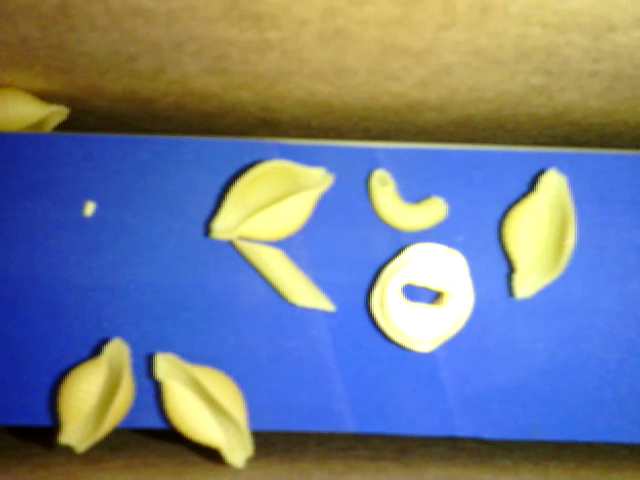elbow: (369, 169, 450, 234)
shell: (152, 349, 252, 471), (205, 157, 334, 241), (498, 163, 575, 300), (54, 336, 134, 456), (234, 241, 341, 316), (1, 82, 72, 130)
tortellini: (366, 240, 474, 354)
